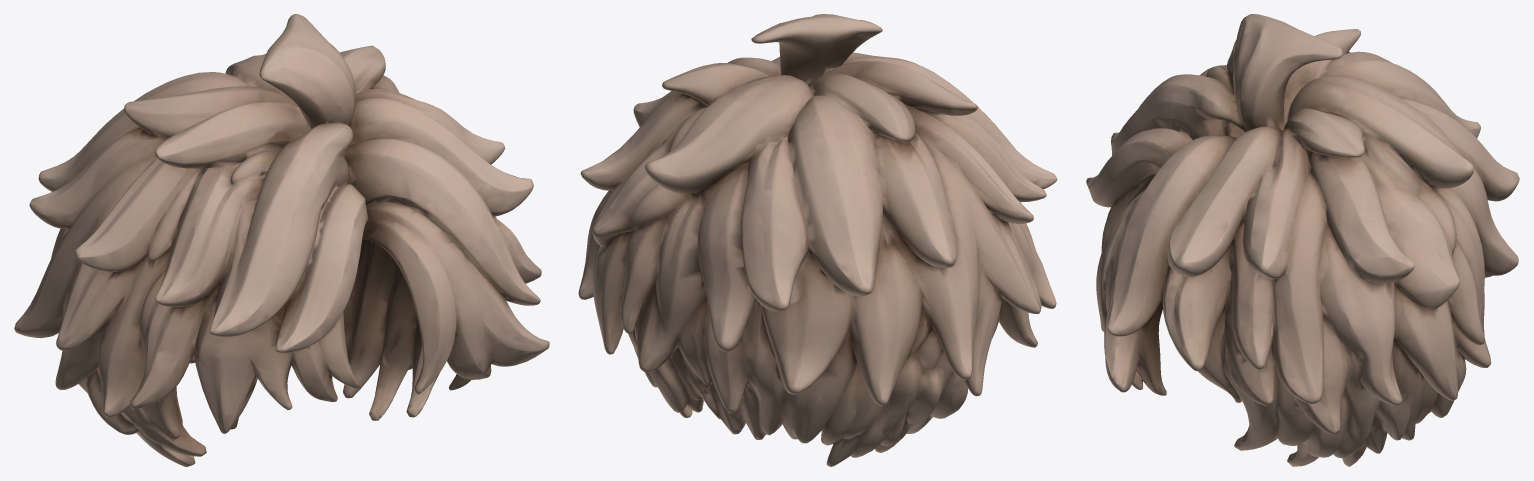
The model's file is hair_m03.glb.
3 views of the same model, side by side, from view 1: azimuth 30°, elevation 25°; view 2: azimuth 150°, elevation 25°; view 3: azimuth 270°, elevation 25° (orthographic). The views are drawn at different scales.
Parts seen in each view (by area): view 1: hair; view 2: hair; view 3: hair.
Part boxes in pixels (box(x1,y1,x2,y2)): hair: box(14, 14, 549, 466); hair: box(578, 14, 1057, 466); hair: box(1086, 14, 1519, 466).
Size of the model in its own units: 3.05 by 2.64 by 2.61.
Materials: 1 (1 with a texture image).
